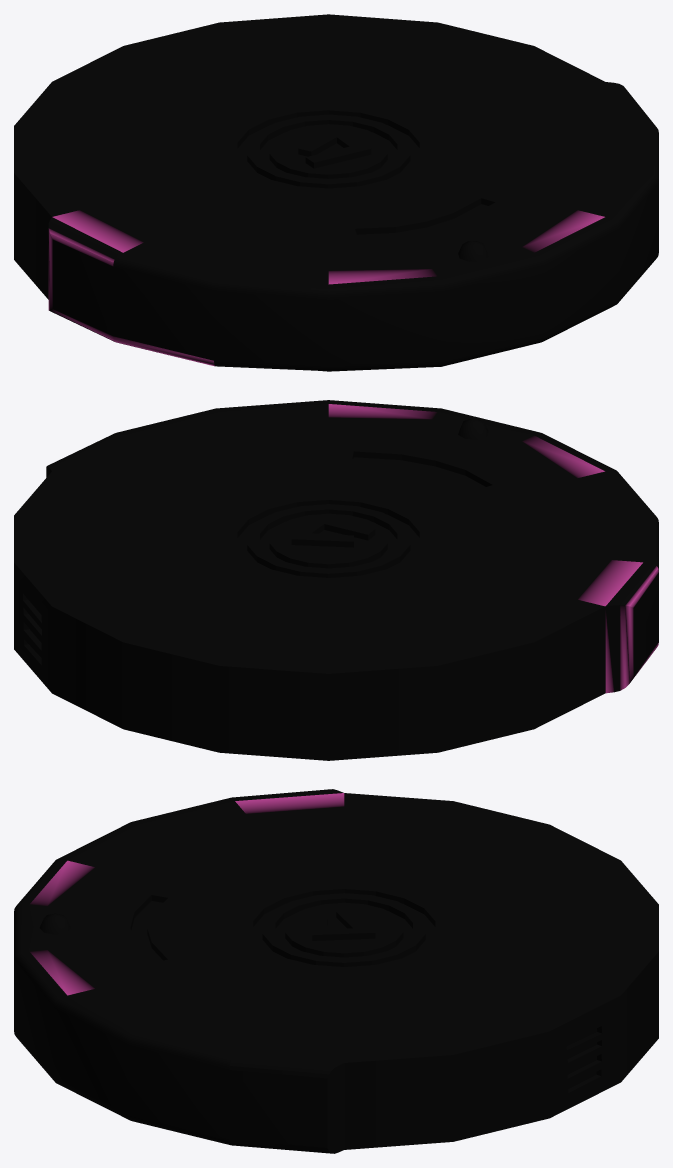
The model's file is rnb_002.FBX.
3 views of the same model, one above another, from view 1: azimuth 30°, elevation 25°; view 2: azimuth 150°, elevation 25°; view 3: azimuth 270°, elevation 25° (orthographic).
Visible parts, largest first — view 1: Cylinder001; view 2: Cylinder001; view 3: Cylinder001.
Boxes of the visible parts, x1=… form: Cylinder001: x1=14, y1=14, x2=658, y2=371; Cylinder001: x1=14, y1=400, x2=658, y2=760; Cylinder001: x1=14, y1=789, x2=658, y2=1153.
Bounding box in the file's own units: 826 × 137 × 795.
